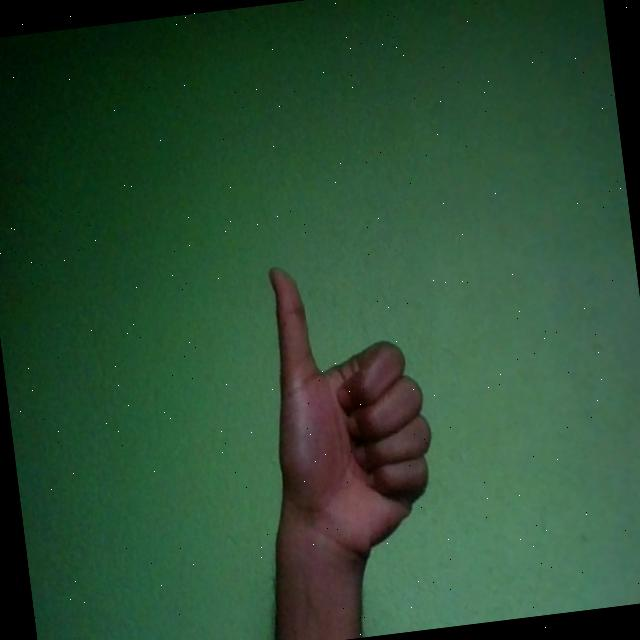Good Job: (256, 250, 446, 570)
